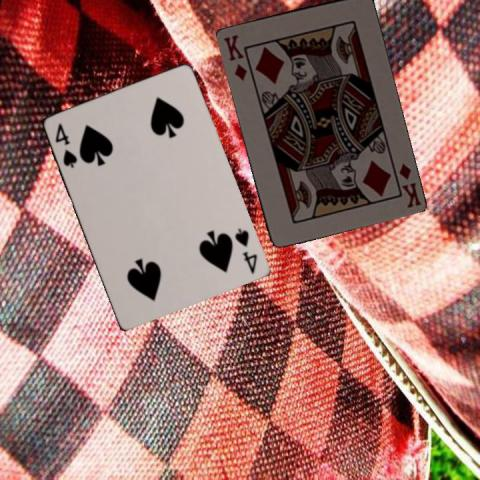4s: (51, 119, 79, 169), (231, 225, 258, 275)
Kd: (389, 157, 422, 209), (220, 31, 248, 83)
